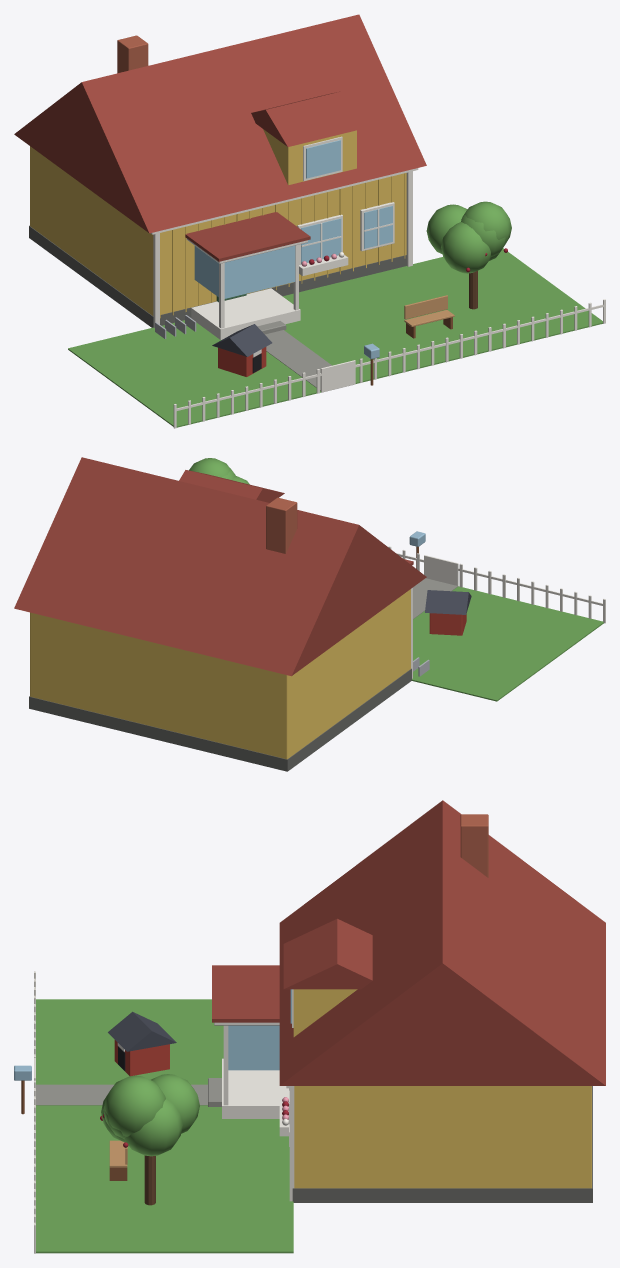
Rendered from home-house.glb.
3 renders of one model, top to bottom at view 1: azimuth 30°, elevation 25°; view 2: azimuth 150°, elevation 25°; view 3: azimuth 270°, elevation 25°, orthographic. The views are drawn at different scales.
Parts seen in each view (by area): view 1: roof, lawn, walls, dormer_roof, porch_cap, plinth, porch_floor, porch_glass_front, apple_crown.002, dormer, path, win (+15 smaller); view 2: roof, walls, lawn, plinth, chimney, dormer_roof, doghouse_roof, gate, doghouse, path, apple_crown.001, rail; view 3: roof, lawn, walls, dormer_roof, plinth, porch_cap, porch_floor, apple_crown.001, porch_glass_side.001, apple_crown.003, path, dormer (+5 smaller).
Part boxes in pixels (<box>): roof: <box>14,14,426,233</box>; lawn: <box>68,248,602,427</box>; walls: <box>30,146,406,315</box>; dormer_roof: <box>251,91,364,146</box>; porch_cap: <box>185,212,310,261</box>; plinth: <box>29,225,406,327</box>; porch_floor: <box>191,288,300,339</box>; porch_glass_front: <box>224,245,295,298</box>; apple_crown.002: <box>441,222,490,273</box>; dormer: <box>263,129,356,185</box>; path: <box>265,330,331,390</box>; win: <box>301,218,341,264</box>; roof: <box>14,457,426,676</box>; walls: <box>30,589,410,759</box>; lawn: <box>411,586,603,701</box>; plinth: <box>29,668,411,771</box>; chimney: <box>266,497,297,553</box>; dormer_roof: <box>179,470,284,502</box>; doghouse_roof: <box>425,590,471,614</box>; gate: <box>424,555,458,585</box>; doghouse: <box>429,613,466,635</box>; path: <box>413,578,458,619</box>; apple_crown.001: <box>189,458,230,477</box>; rail: <box>396,553,602,605</box>; roof: <box>279,800,605,1085</box>; lawn: <box>36,999,293,1253</box>; walls: <box>294,1086,591,1188</box>; dormer_roof: <box>283,918,372,989</box>; plinth: <box>292,1086,592,1202</box>; porch_cap: <box>212,965,279,1022</box>; porch_floor: <box>222,1058,288,1118</box>; apple_crown.001: <box>104,1075,165,1136</box>; porch_glass_side.001: <box>228,1025,279,1070</box>; apple_crown.003: <box>124,1099,182,1156</box>; path: <box>36,1084,207,1105</box>; dormer: <box>293,989,357,1036</box>.
Size of the model in its own units: 15.09 by 7.3 by 14.88.
